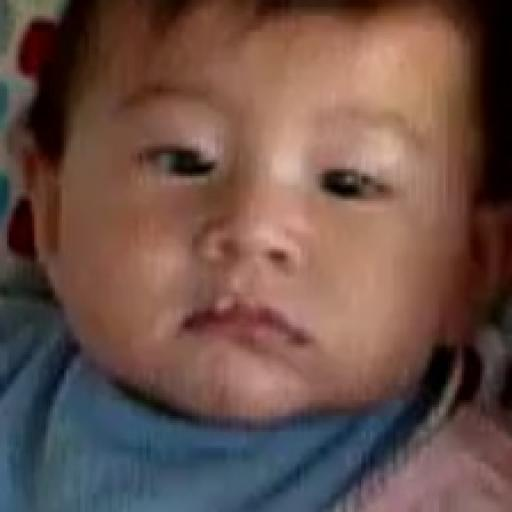Autism: (38, 0, 512, 448)
